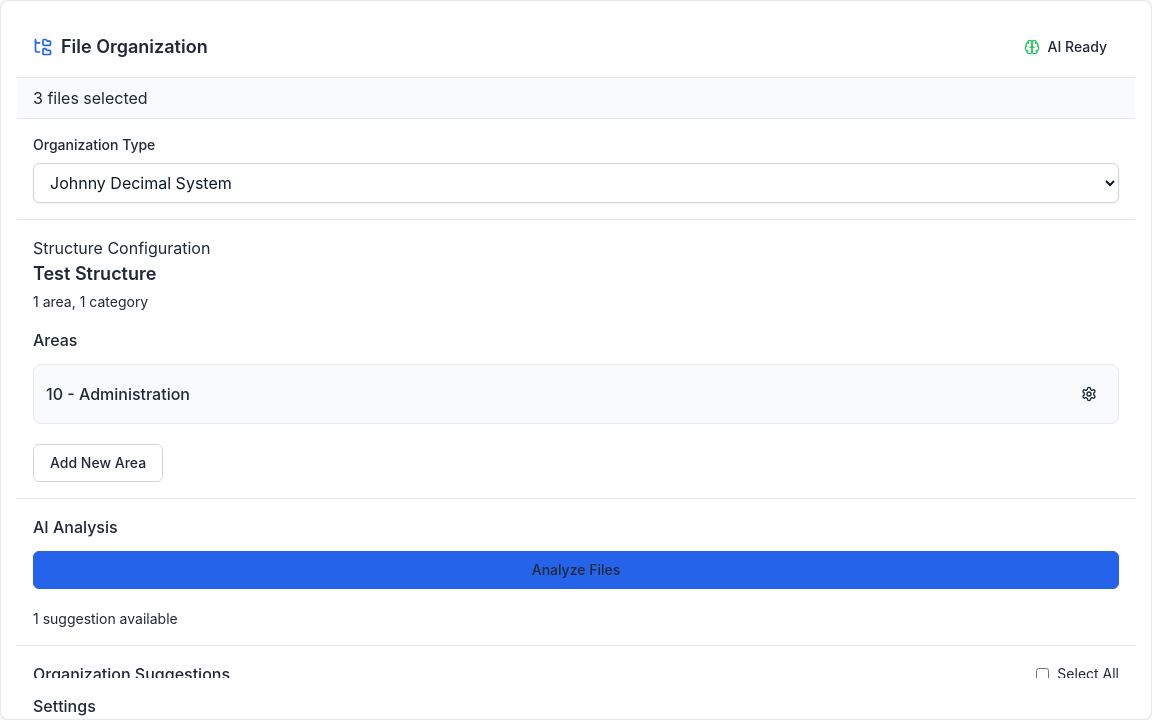
OrganizationPanel Component › Organization Type Selection › hides Johnny Decimal config when other type selected
Select "Date-Based Organization" in the dropdown labelled "Organization Type": [576, 183] box [33, 163, 1119, 203]
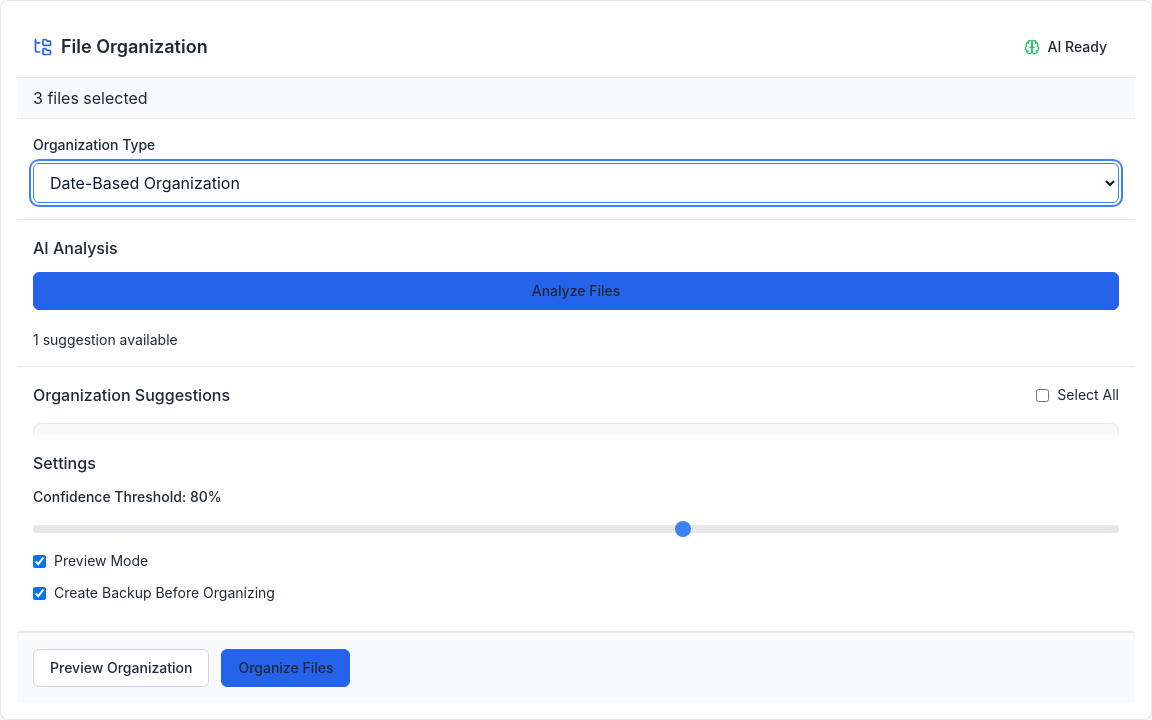
Check: the heading "Structure Configuration" is gone
